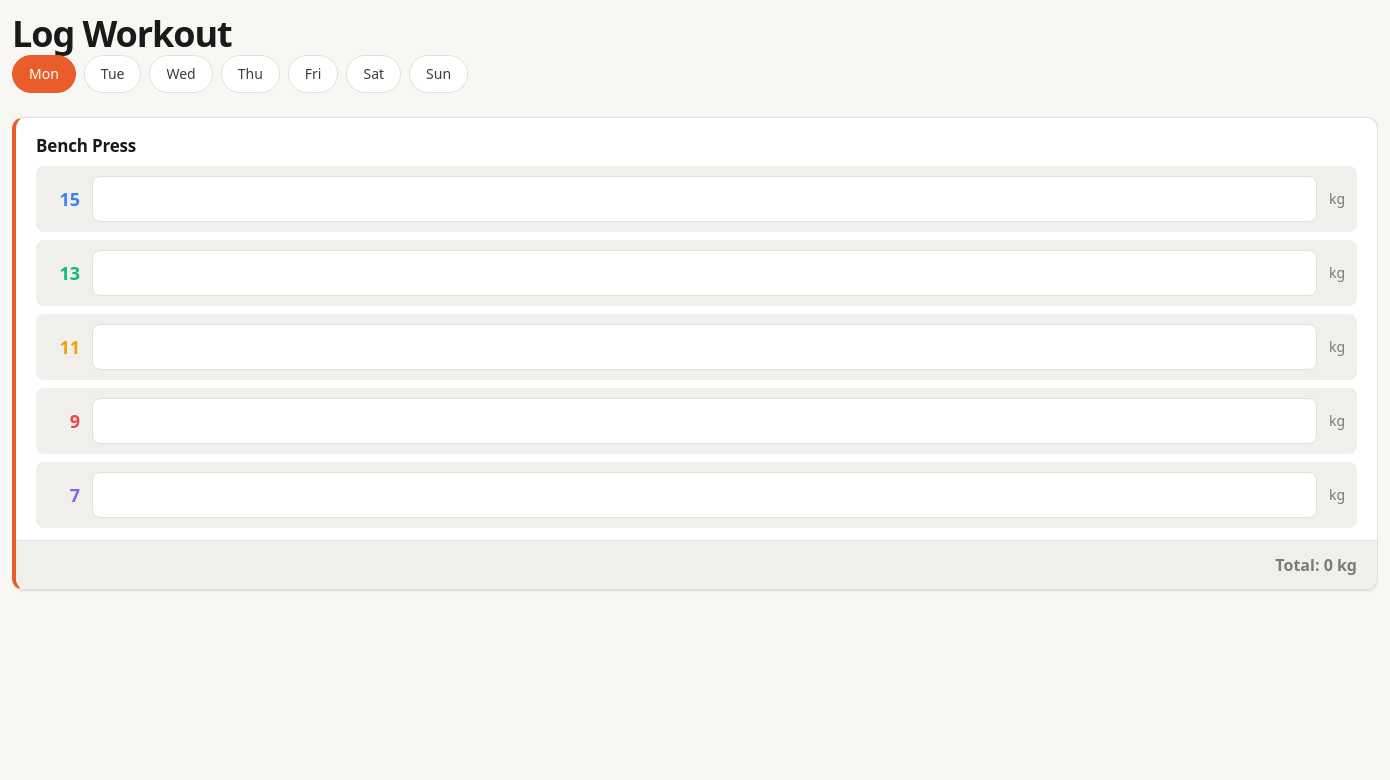
Test: LogWorkout - Exercise Cards › shows save button when weights are entered
In the number field named "Bench Press 15 reps weight": (704, 199) x1=92 y1=176 x2=1317 y2=222, type "50"
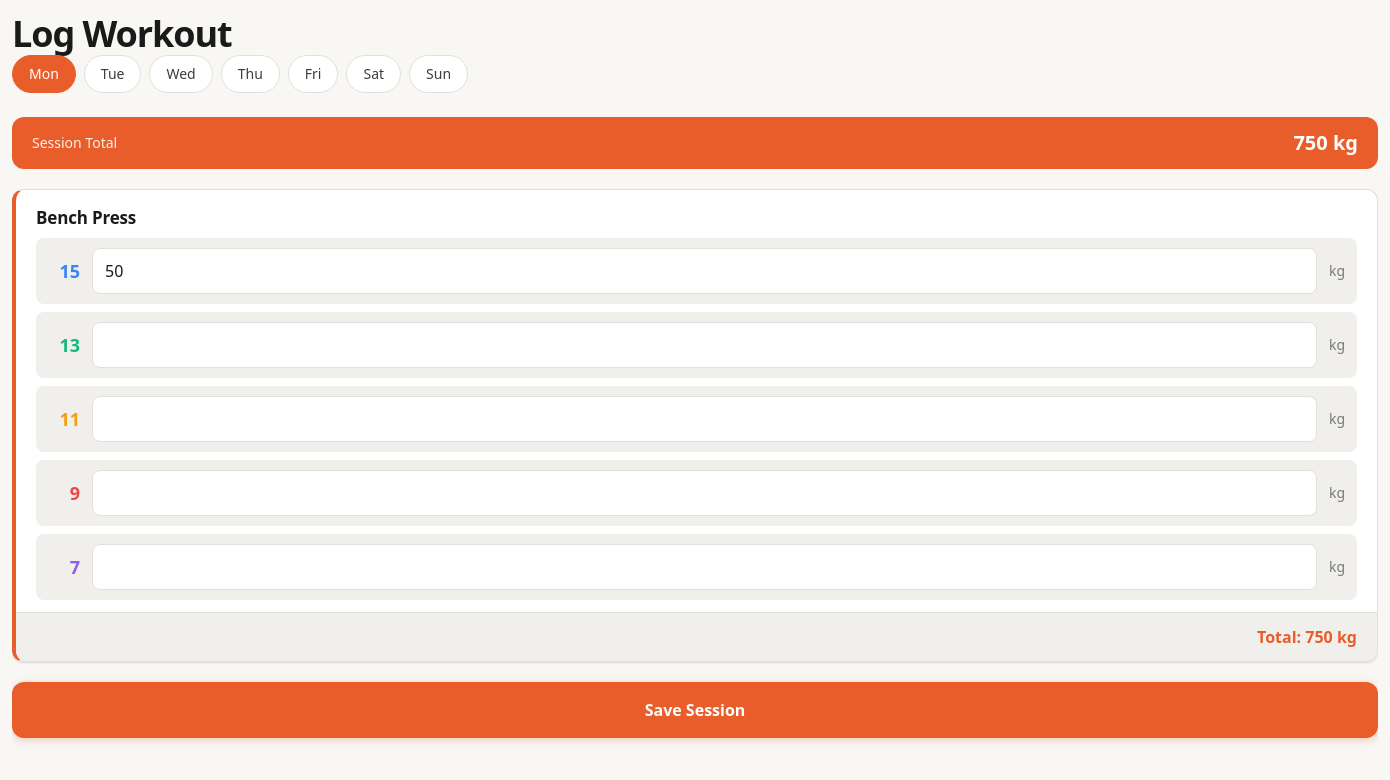
Now the button "Save Session" is shown, box x1=12 y1=682 x2=1378 y2=738
